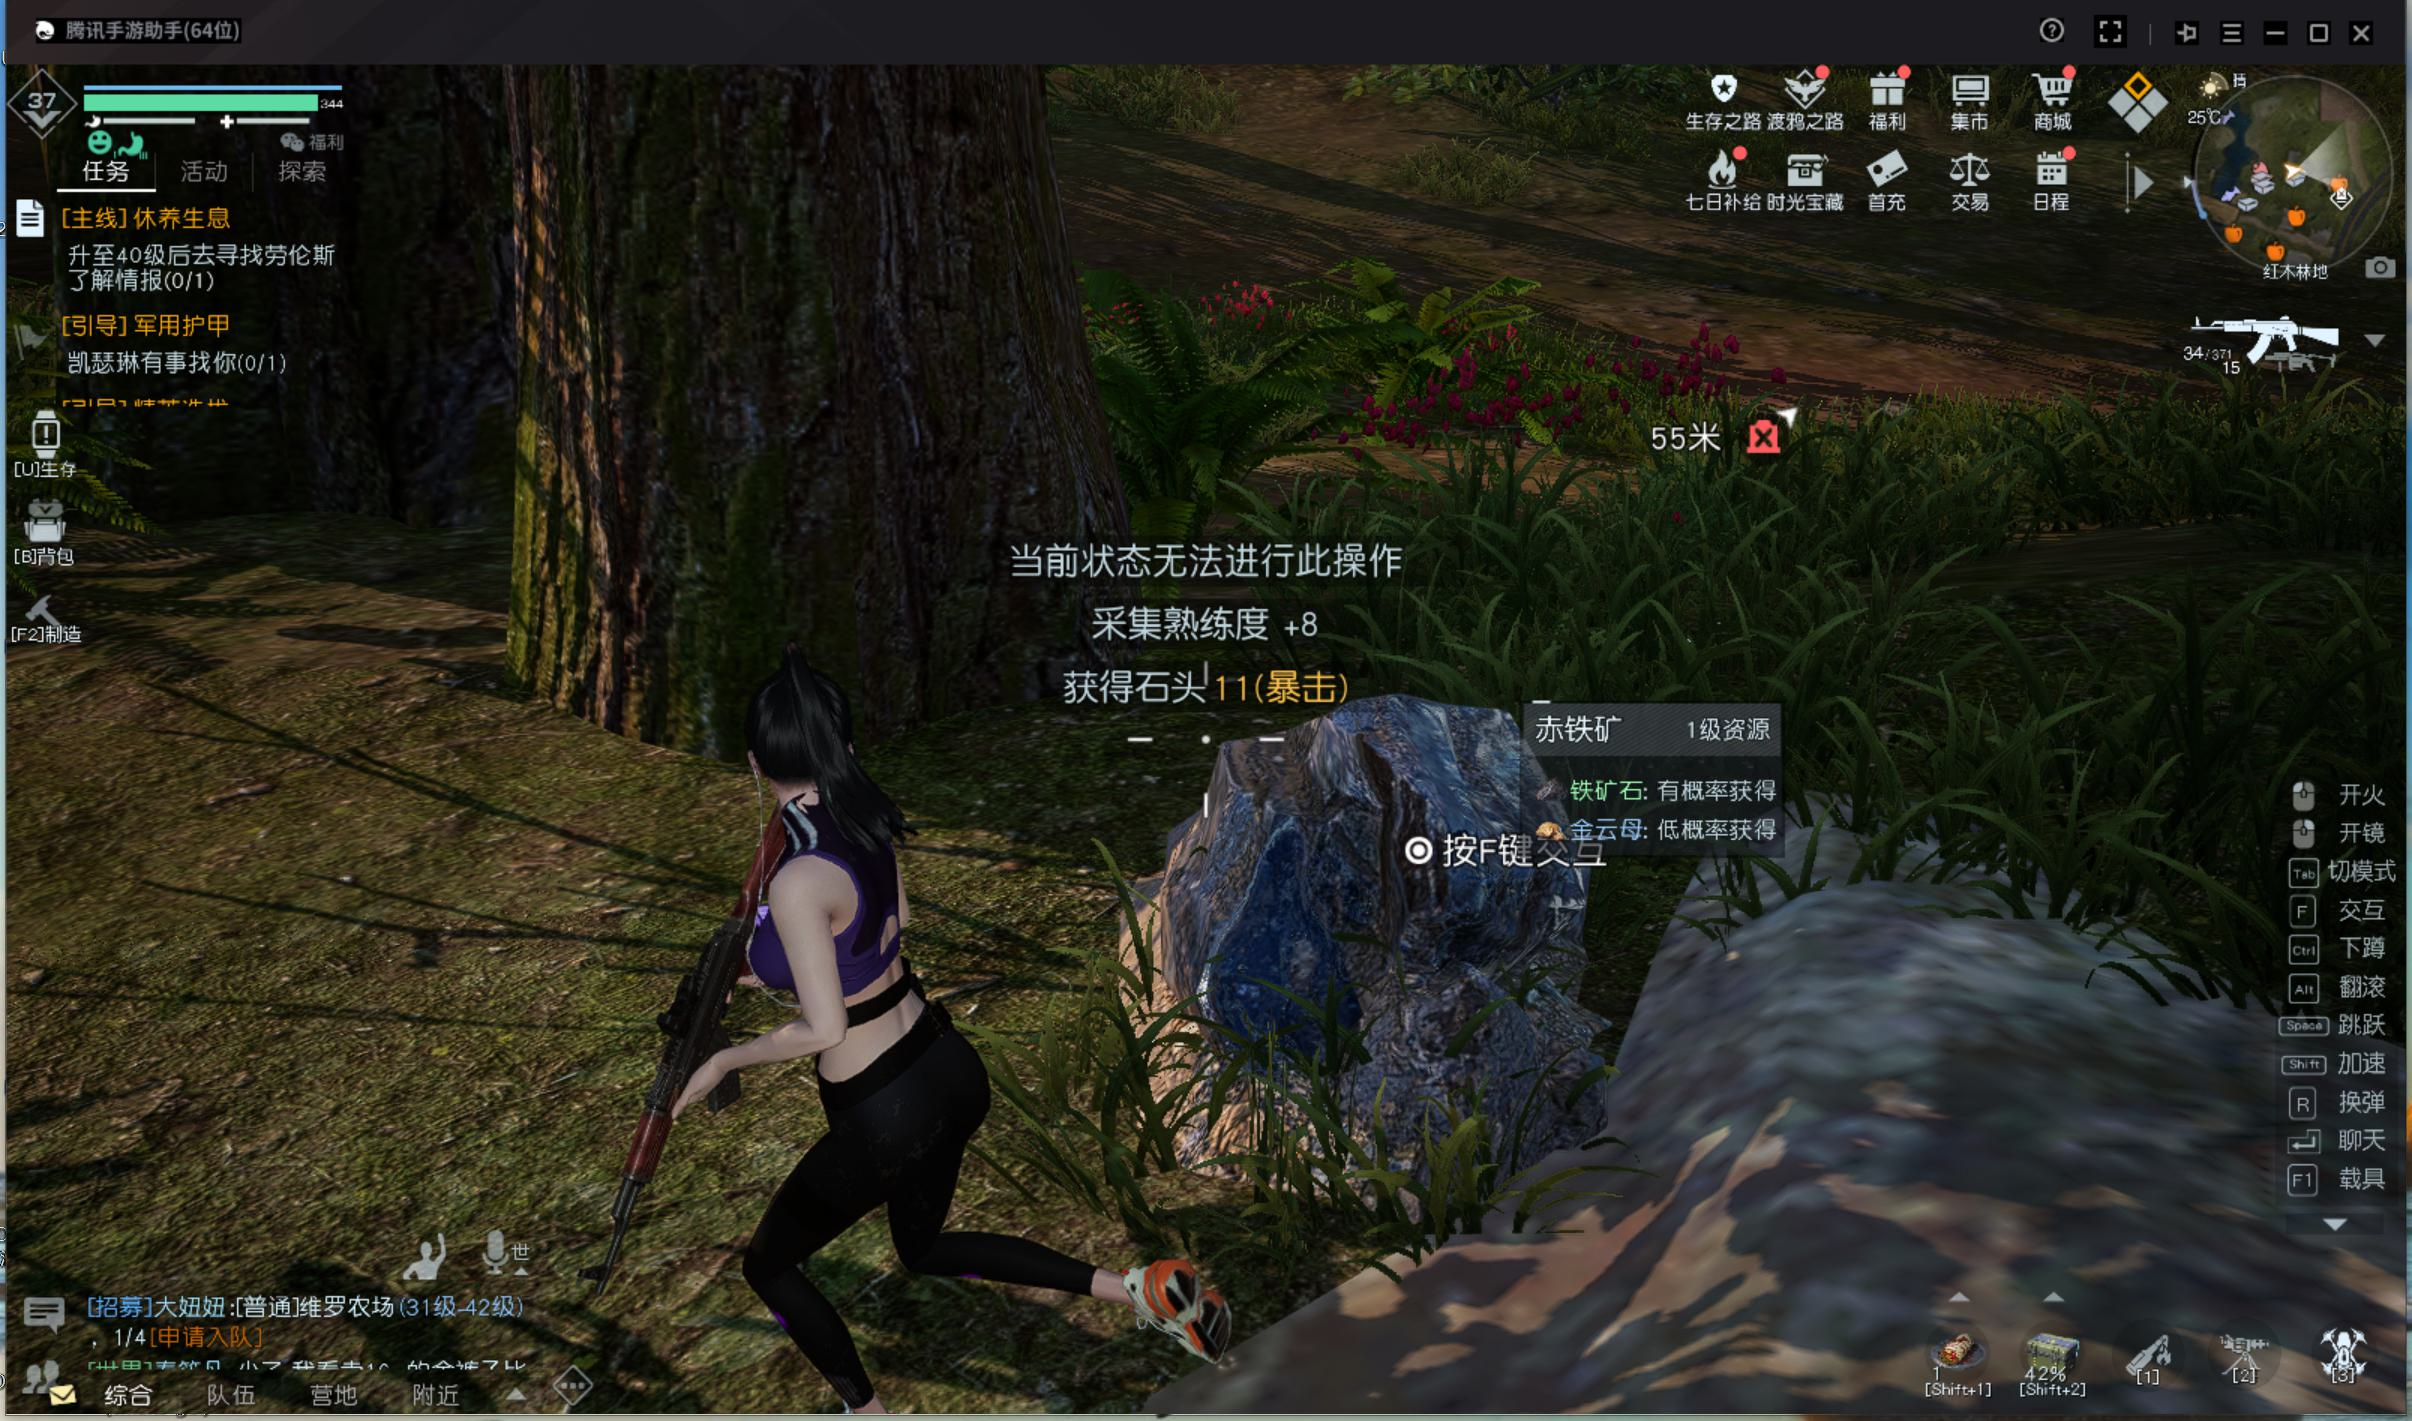stone: (1133, 653, 1636, 1188)
